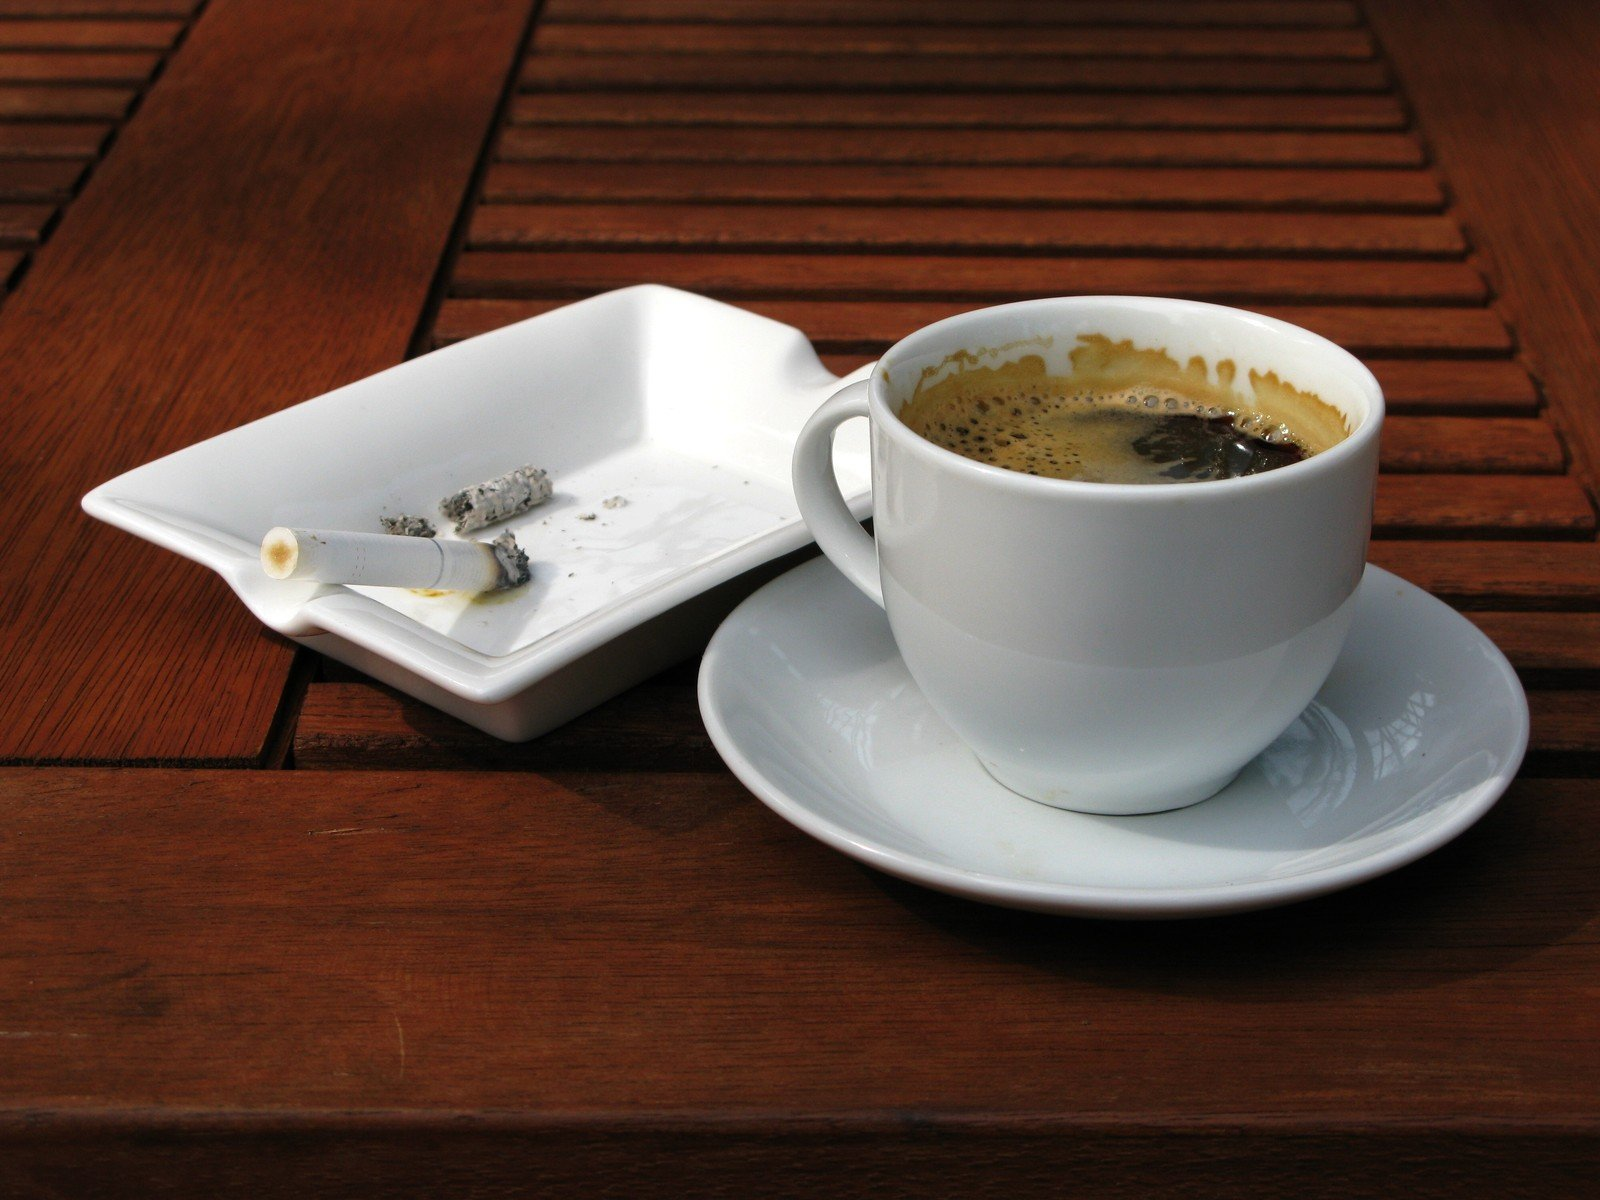cigarette: (256, 518, 534, 597)
